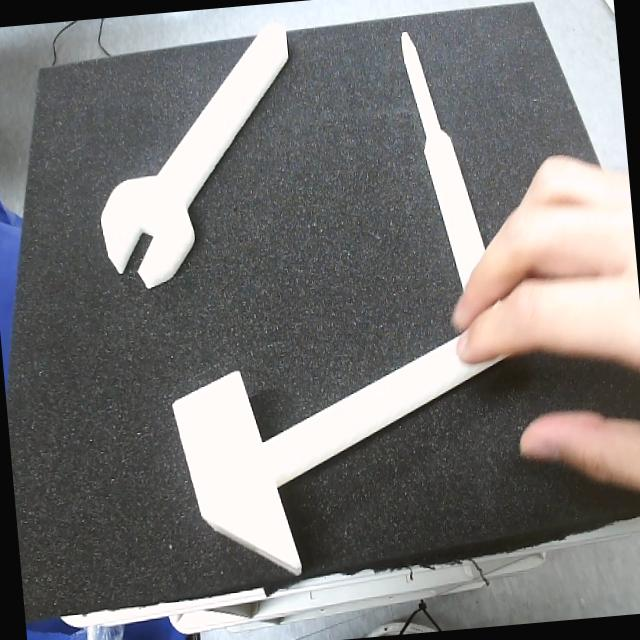Spanner: (100, 23, 286, 291)
